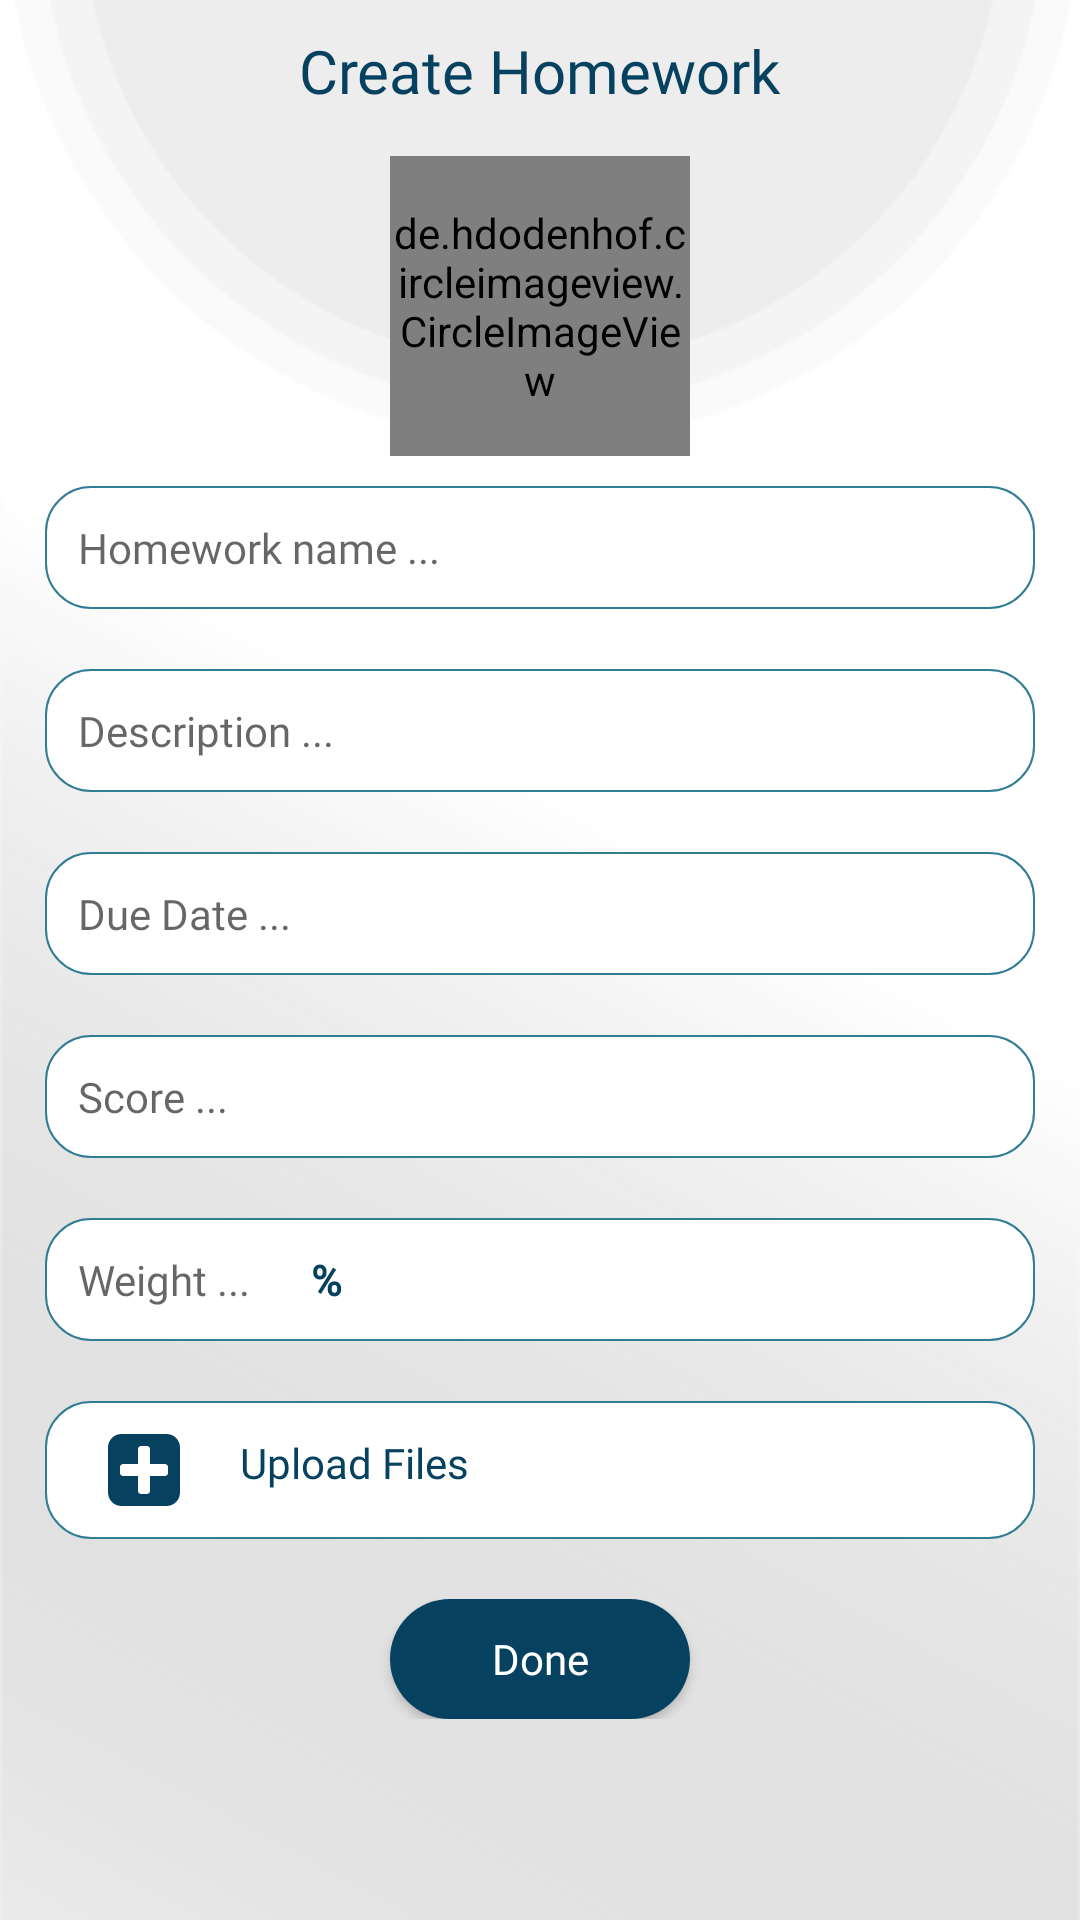

Locate icon controls on the screen. Image size 1080*1920, boxes as bbox=[x1, y1, x2, y2].
add: bbox=[108, 1434, 180, 1506]
